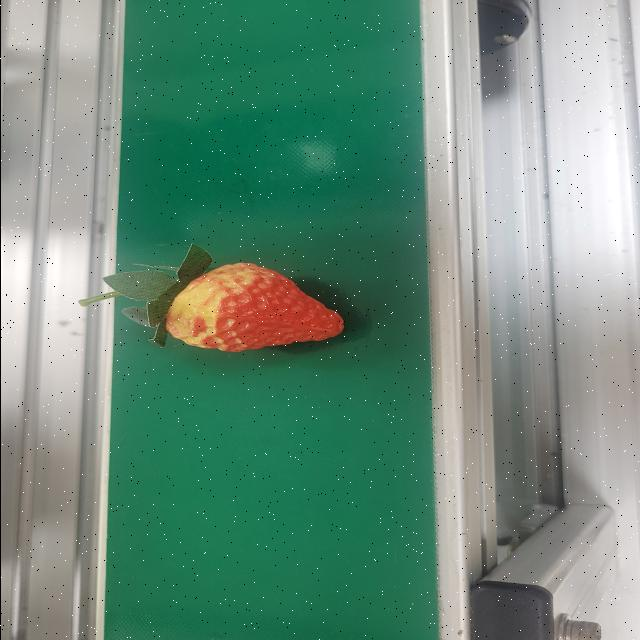Moldy Strawberry: (128, 262, 348, 360)
